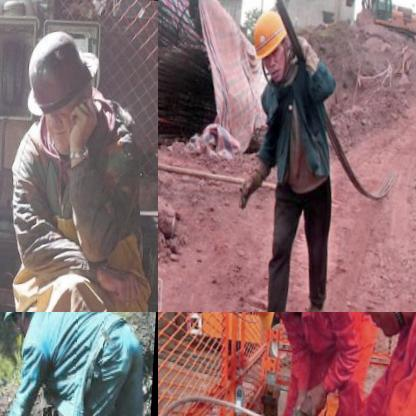helmet: (18, 17, 105, 146), (251, 2, 298, 81), (0, 312, 44, 339)
